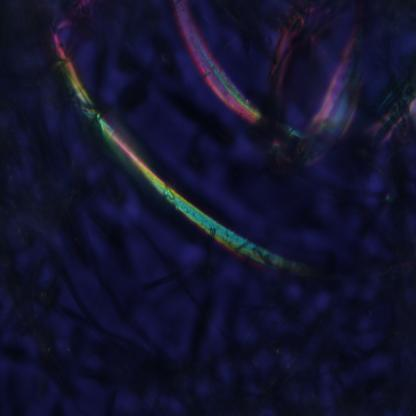Microfibre: (51, 20, 320, 292), (171, 2, 416, 190)
